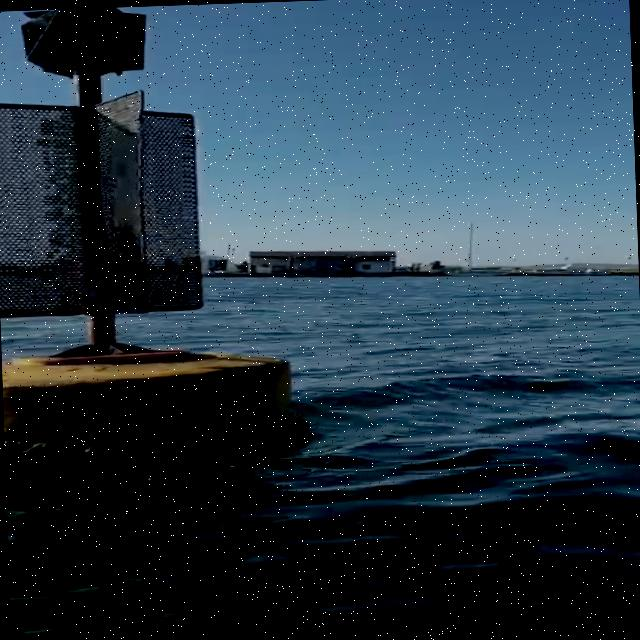marque: (1, 2, 298, 472)
